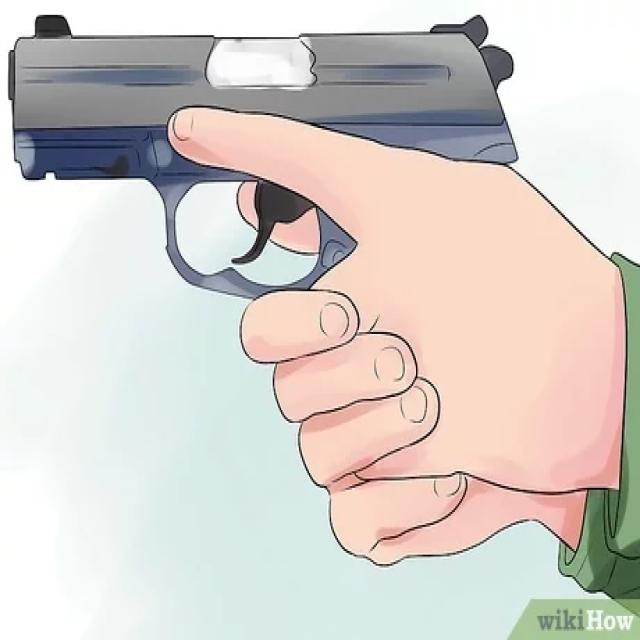HandGun: (8, 15, 520, 304)
